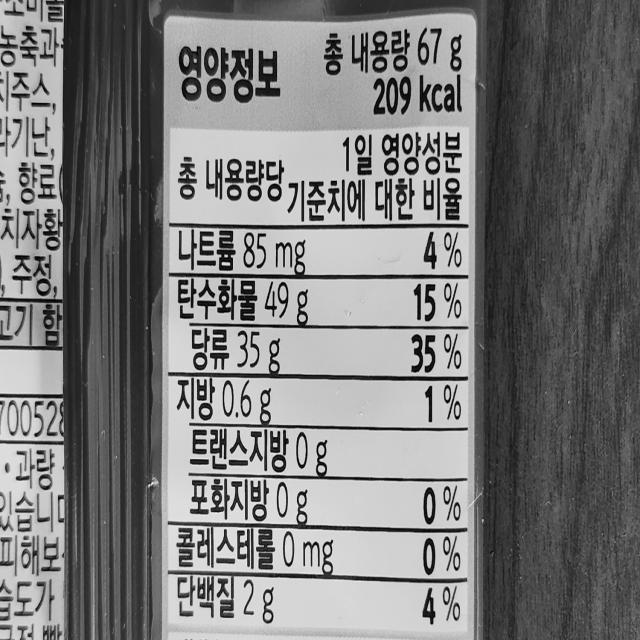Nutrition Label: (155, 16, 481, 640)
